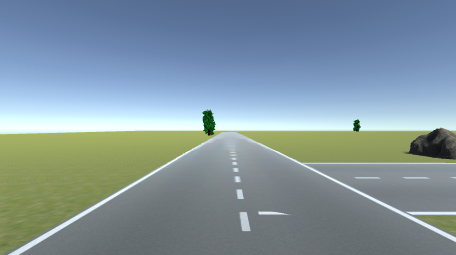rock: (408, 127, 456, 159)
tree: (202, 109, 217, 137), (353, 119, 361, 133)
